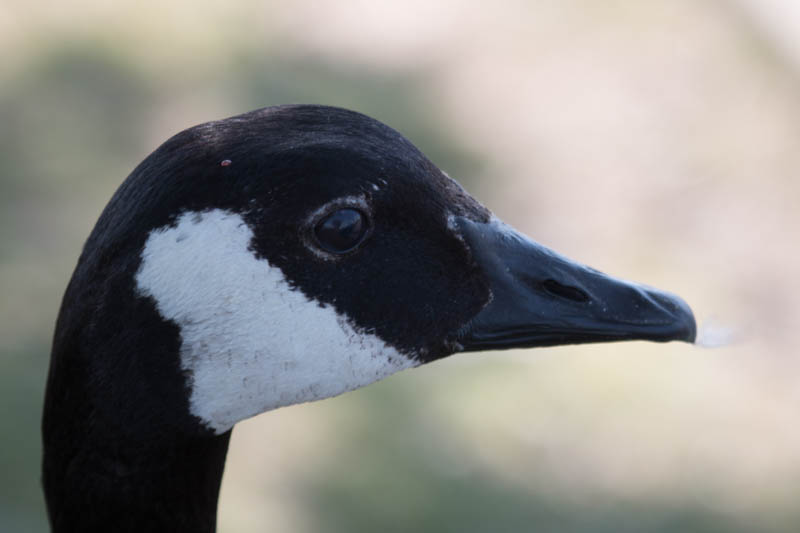goose-head: (42, 104, 698, 436)
